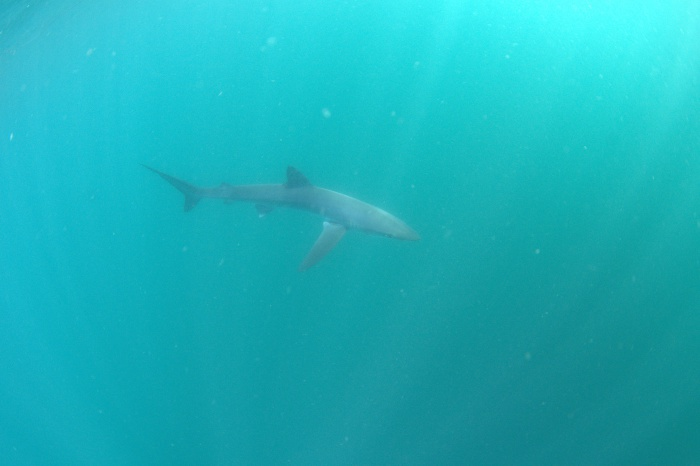Azul: (135, 150, 429, 279)
